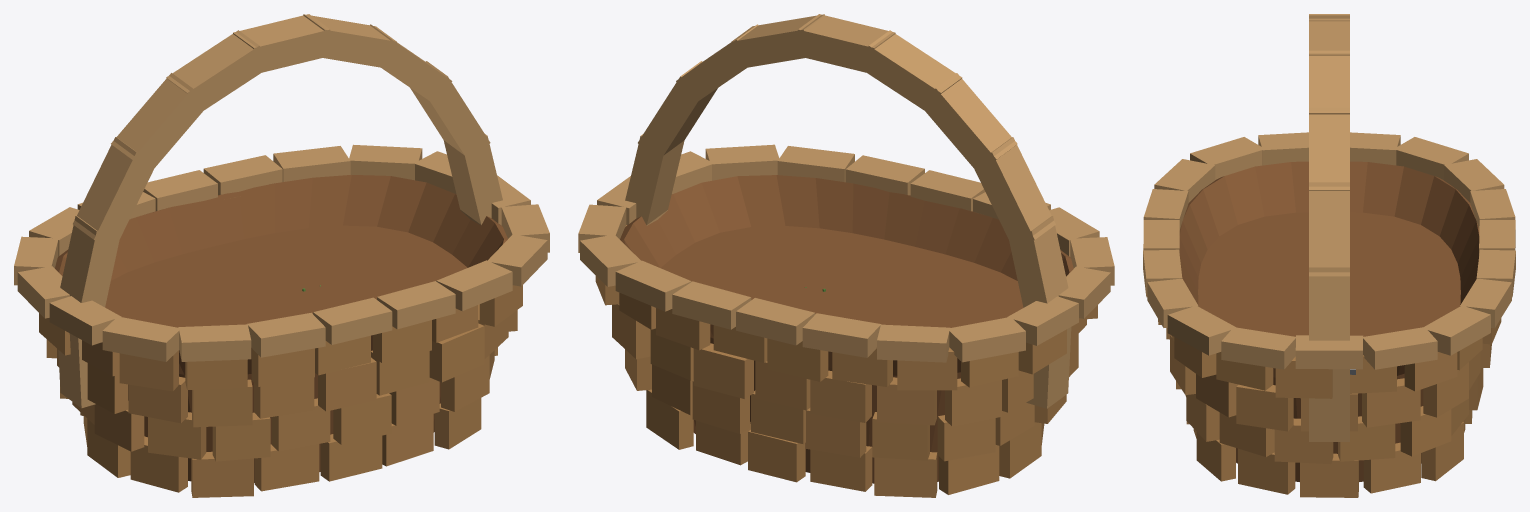
The model's file is HarvestBasket.glb.
The picture shows the model from 3 angles, left to right: view 1: azimuth 30°, elevation 25°; view 2: azimuth 150°, elevation 25°; view 3: azimuth 270°, elevation 25°; orthographic projection. The views are drawn at different scales.
Visible parts, largest first — view 1: HarvestBasket_Weave, HarvestBasket_Inner, HarvestBasket_Rim, HarvestBasket_Handle; view 2: HarvestBasket_Weave, HarvestBasket_Inner, HarvestBasket_Rim, HarvestBasket_Handle; view 3: HarvestBasket_Inner, HarvestBasket_Weave, HarvestBasket_Rim, HarvestBasket_Handle.
Part boxes in pixels (bbox=[...]): HarvestBasket_Weave: bbox=[39, 196, 522, 497]; HarvestBasket_Inner: bbox=[55, 175, 507, 482]; HarvestBasket_Rim: bbox=[14, 144, 549, 361]; HarvestBasket_Handle: bbox=[58, 14, 502, 408]; HarvestBasket_Weave: bbox=[595, 225, 1097, 497]; HarvestBasket_Inner: bbox=[620, 175, 1073, 483]; HarvestBasket_Rim: bbox=[578, 144, 1114, 362]; HarvestBasket_Handle: bbox=[625, 14, 1071, 408]; HarvestBasket_Inner: bbox=[1179, 161, 1479, 481]; HarvestBasket_Weave: bbox=[1158, 318, 1501, 497]; HarvestBasket_Rim: bbox=[1143, 132, 1515, 369]; HarvestBasket_Handle: bbox=[1309, 14, 1349, 441].
Bounding box in the file's own units: 0.6635 × 0.5741 × 0.4756.
